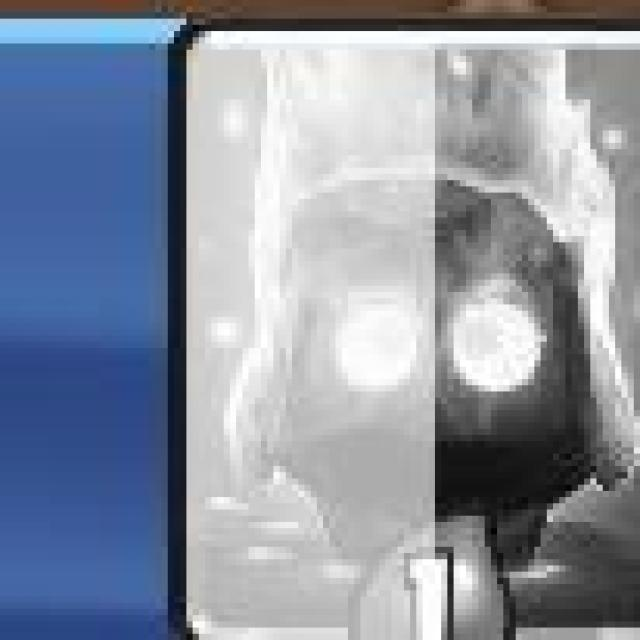Fire_Spirit: (171, 17, 640, 640)
